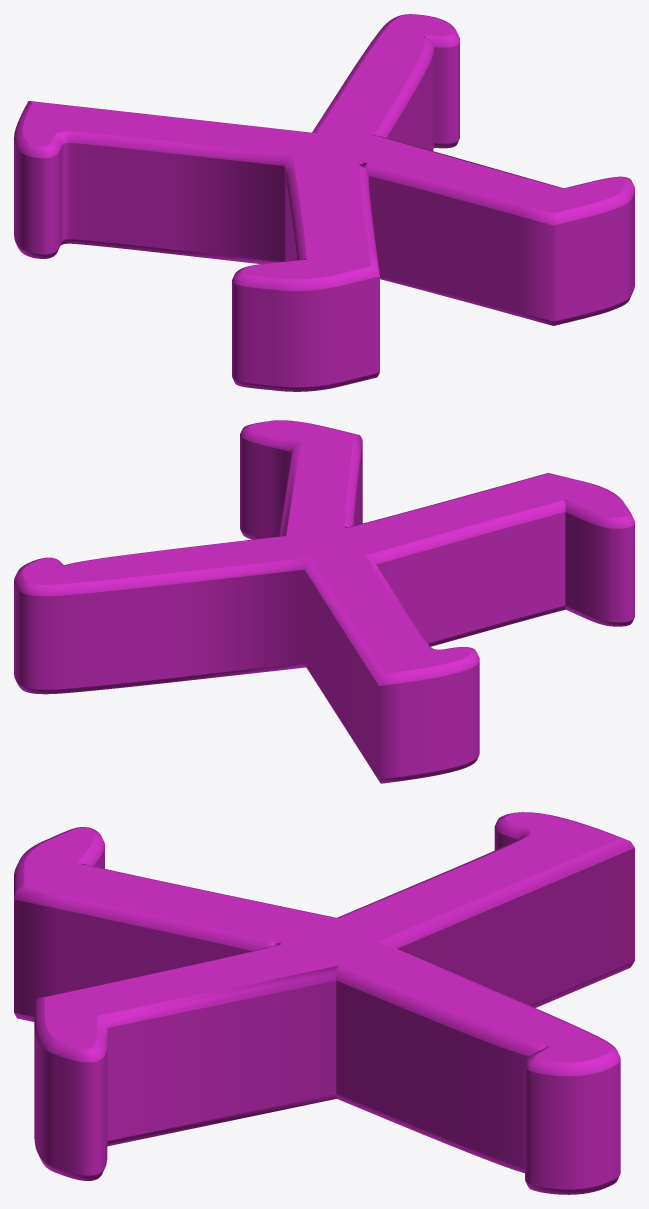
The model's file is Letter_X.fbx.
3 views of the same model, one above another, from view 1: azimuth 30°, elevation 25°; view 2: azimuth 150°, elevation 25°; view 3: azimuth 270°, elevation 25° (orthographic). The views are drawn at different scales.
Parts seen in each view (by area): view 1: Letter_X; view 2: Letter_X; view 3: Letter_X.
Boxes of the visible parts, x1,y1,x2,y2 form: Letter_X: [14, 14, 634, 391]; Letter_X: [14, 420, 634, 783]; Letter_X: [14, 812, 634, 1194].
Bounding box in the file's own units: 0.5884 × 0.14 × 0.5967.
